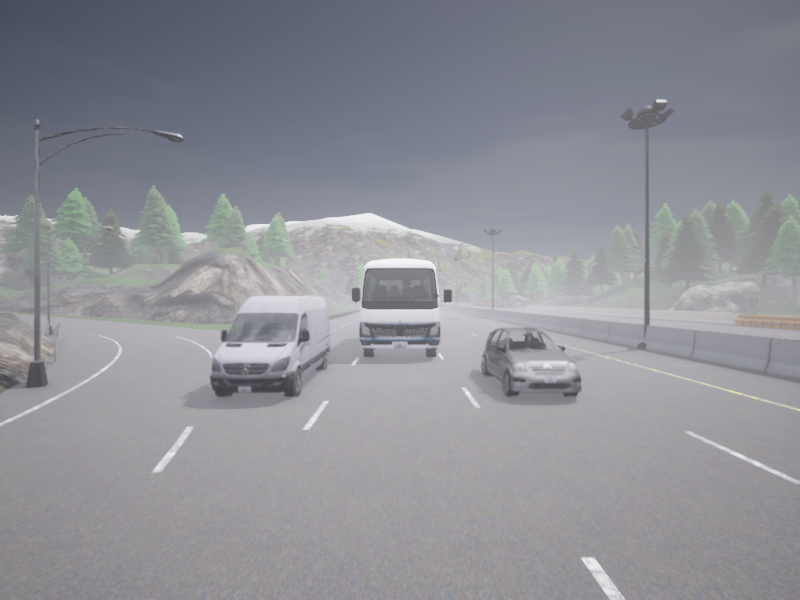vehicle: (210, 296, 330, 396), (352, 258, 451, 357), (481, 327, 581, 396), (468, 302, 472, 303)
